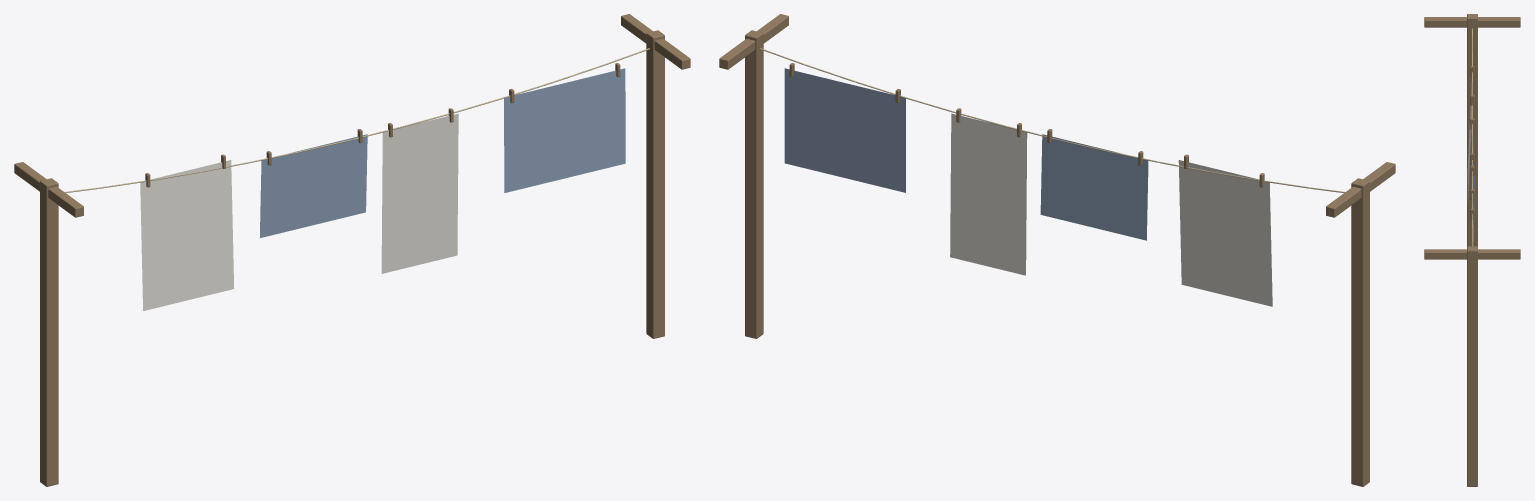
The model's file is WashingLine.fbx.
3 renders of one model, left to right at view 1: azimuth 30°, elevation 25°; view 2: azimuth 150°, elevation 25°; view 3: azimuth 270°, elevation 25°, orthographic. The views are drawn at different scales.
Visible parts, largest first — view 1: WashingLine; view 2: WashingLine; view 3: WashingLine.
Part boxes in pixels (bbox=[...]): WashingLine: bbox=[14, 14, 690, 486]; WashingLine: bbox=[719, 14, 1395, 486]; WashingLine: bbox=[1424, 14, 1520, 486].
Size of the model in its own units: 4.08 by 1.9 by 0.7.
